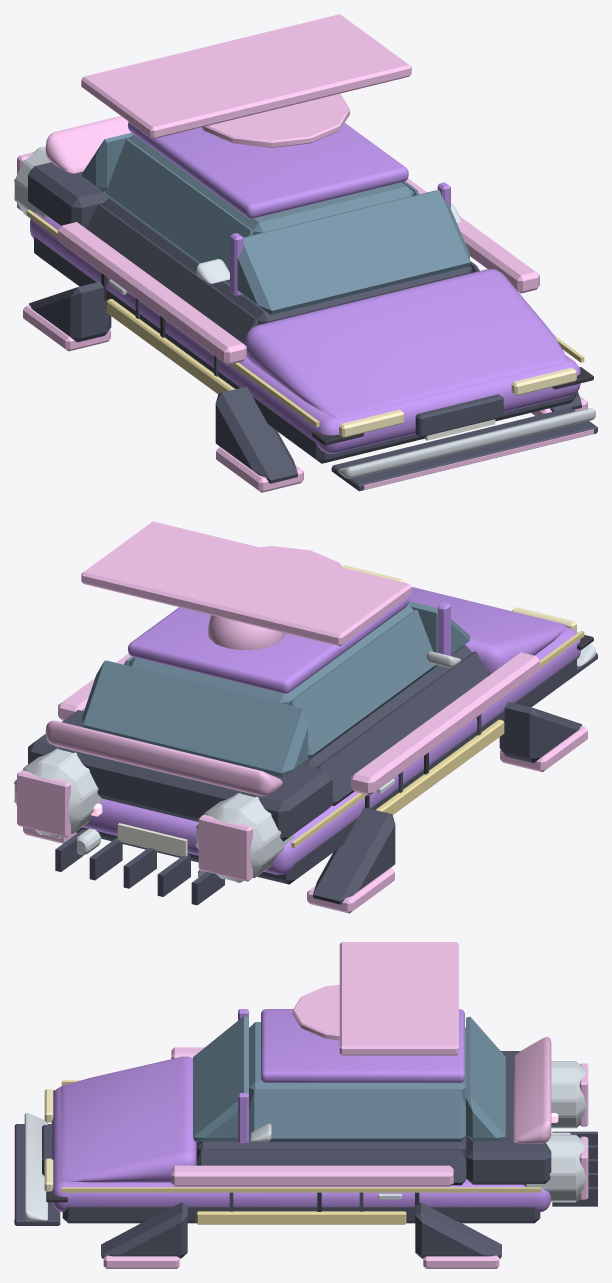
File: neon_lifter.fbx
The picture shows the model from 3 angles, top to bottom: view 1: azimuth 30°, elevation 25°; view 2: azimuth 150°, elevation 25°; view 3: azimuth 270°, elevation 25°; orthographic projection. The views are drawn at different scales.
Parts seen in each view (by area): view 1: Body, Light, Glass, Trim, Accent, Accent2, Accent3, Light2, Trim2; view 2: Light, Trim, Glass, Body, Accent, Accent3, Accent2, Accent4, Metal, Light2; view 3: Body, Trim, Light, Glass, Accent, Accent2, Accent3, Light2.
Boxes of the visible parts, bbox=[...] form: Body: bbox=[30, 122, 580, 453]; Light: bbox=[17, 14, 593, 492]; Glass: bbox=[82, 132, 470, 314]; Trim: bbox=[28, 162, 597, 491]; Accent: bbox=[14, 146, 595, 478]; Accent2: bbox=[26, 210, 584, 427]; Accent3: bbox=[45, 116, 130, 173]; Light2: bbox=[339, 367, 576, 437]; Trim2: bbox=[101, 273, 593, 445]; Light: bbox=[17, 521, 587, 913]; Trim: bbox=[28, 645, 597, 905]; Glass: bbox=[82, 601, 469, 777]; Body: bbox=[82, 587, 580, 874]; Accent: bbox=[14, 644, 595, 882]; Accent3: bbox=[45, 720, 282, 796]; Accent2: bbox=[291, 630, 584, 848]; Accent4: bbox=[117, 823, 187, 856]; Metal: bbox=[76, 778, 394, 878]; Light2: bbox=[342, 565, 576, 631]; Body: bbox=[51, 1009, 551, 1211]; Trim: bbox=[14, 1051, 597, 1258]; Light: bbox=[14, 942, 588, 1268]; Glass: bbox=[193, 1016, 505, 1141]; Accent: bbox=[24, 1061, 586, 1220]; Accent2: bbox=[61, 1080, 541, 1224]; Accent3: bbox=[513, 1037, 551, 1143]; Light2: bbox=[44, 1089, 53, 1191].
Bounding box in the file's own units: 2.9 × 2.13 × 5.38.
